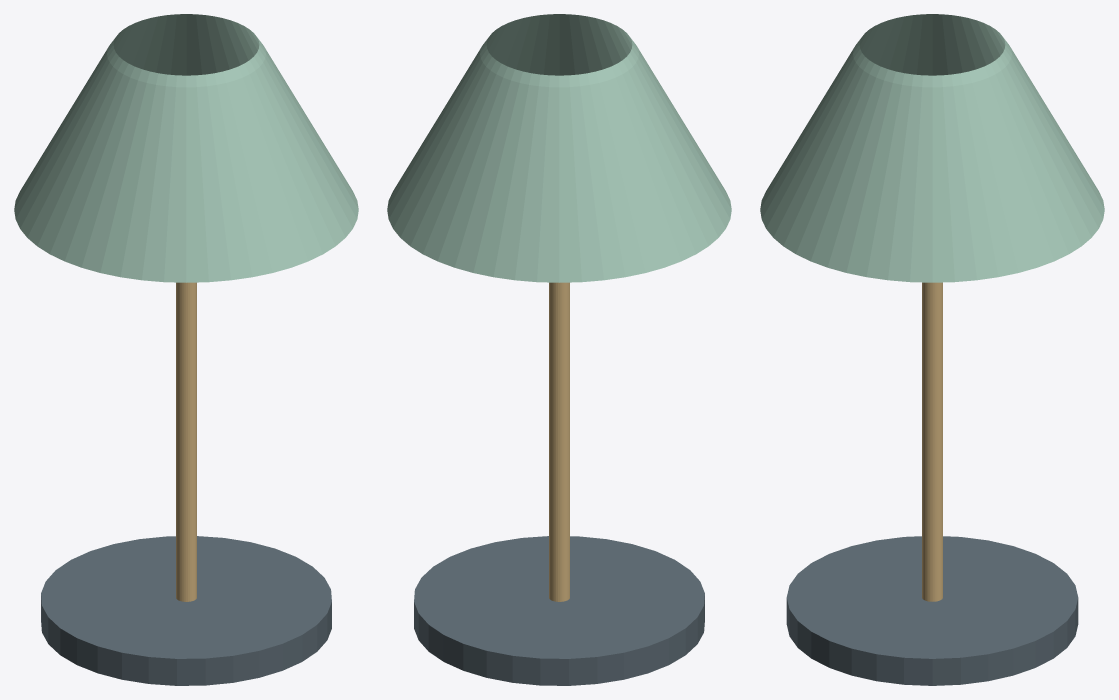
The model's file is atelier-lamp.glb.
3 renders of one model, left to right at view 1: azimuth 30°, elevation 25°; view 2: azimuth 150°, elevation 25°; view 3: azimuth 270°, elevation 25°, orthographic.
Parts seen in each view (by area): view 1: atelier-lamp; view 2: atelier-lamp; view 3: atelier-lamp.
Part boxes in pixels (left/top/right/bottom): atelier-lamp: left=14, top=14, right=358, bottom=685; atelier-lamp: left=387, top=14, right=731, bottom=685; atelier-lamp: left=760, top=14, right=1104, bottom=685.
Bounding box in the file's own units: 0.52 × 0.965 × 0.52.
